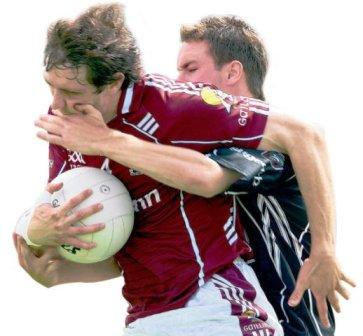ball: (42, 162, 138, 266)
player: (25, 14, 278, 329), (168, 22, 351, 316)
